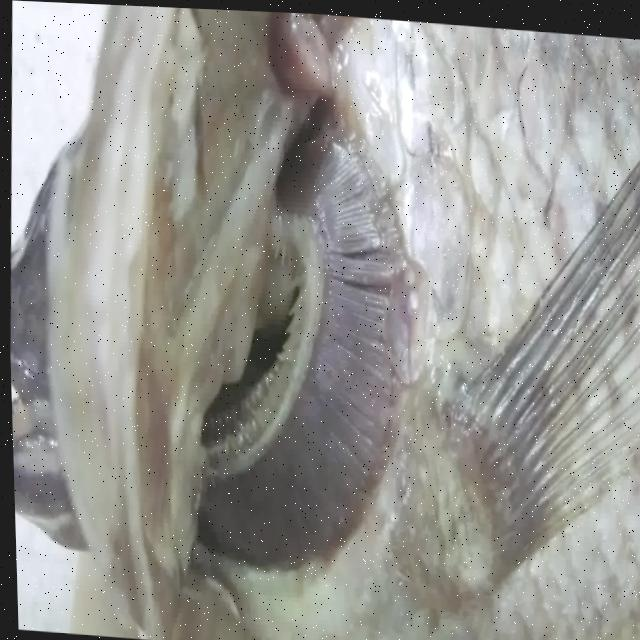Non-Fresh: (198, 105, 427, 569)
